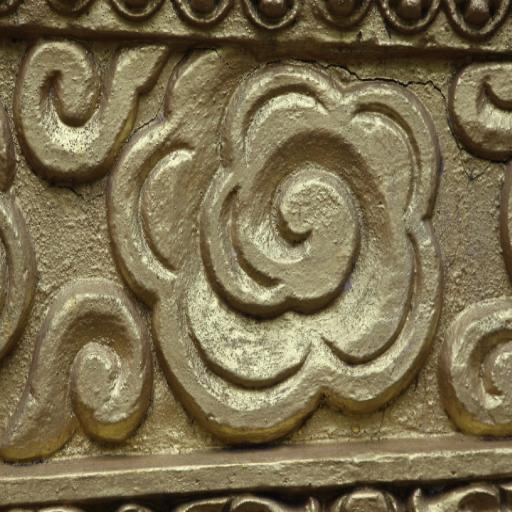hoa: (124, 59, 446, 438)
